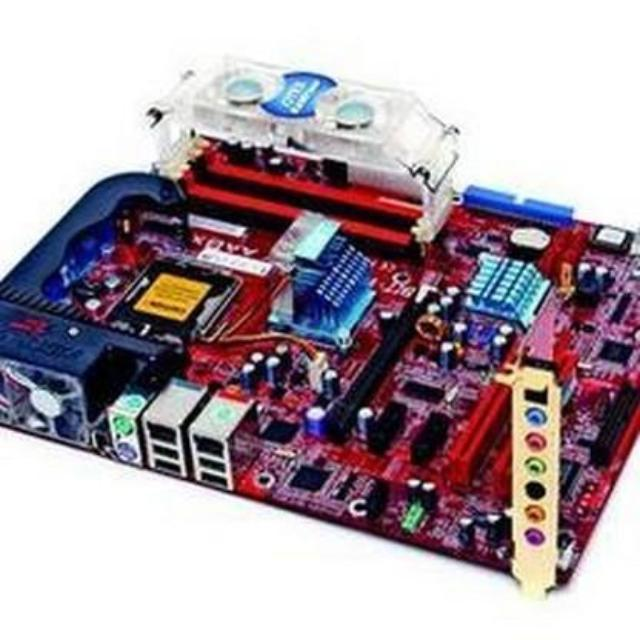Mainboard: (0, 57, 640, 591)
